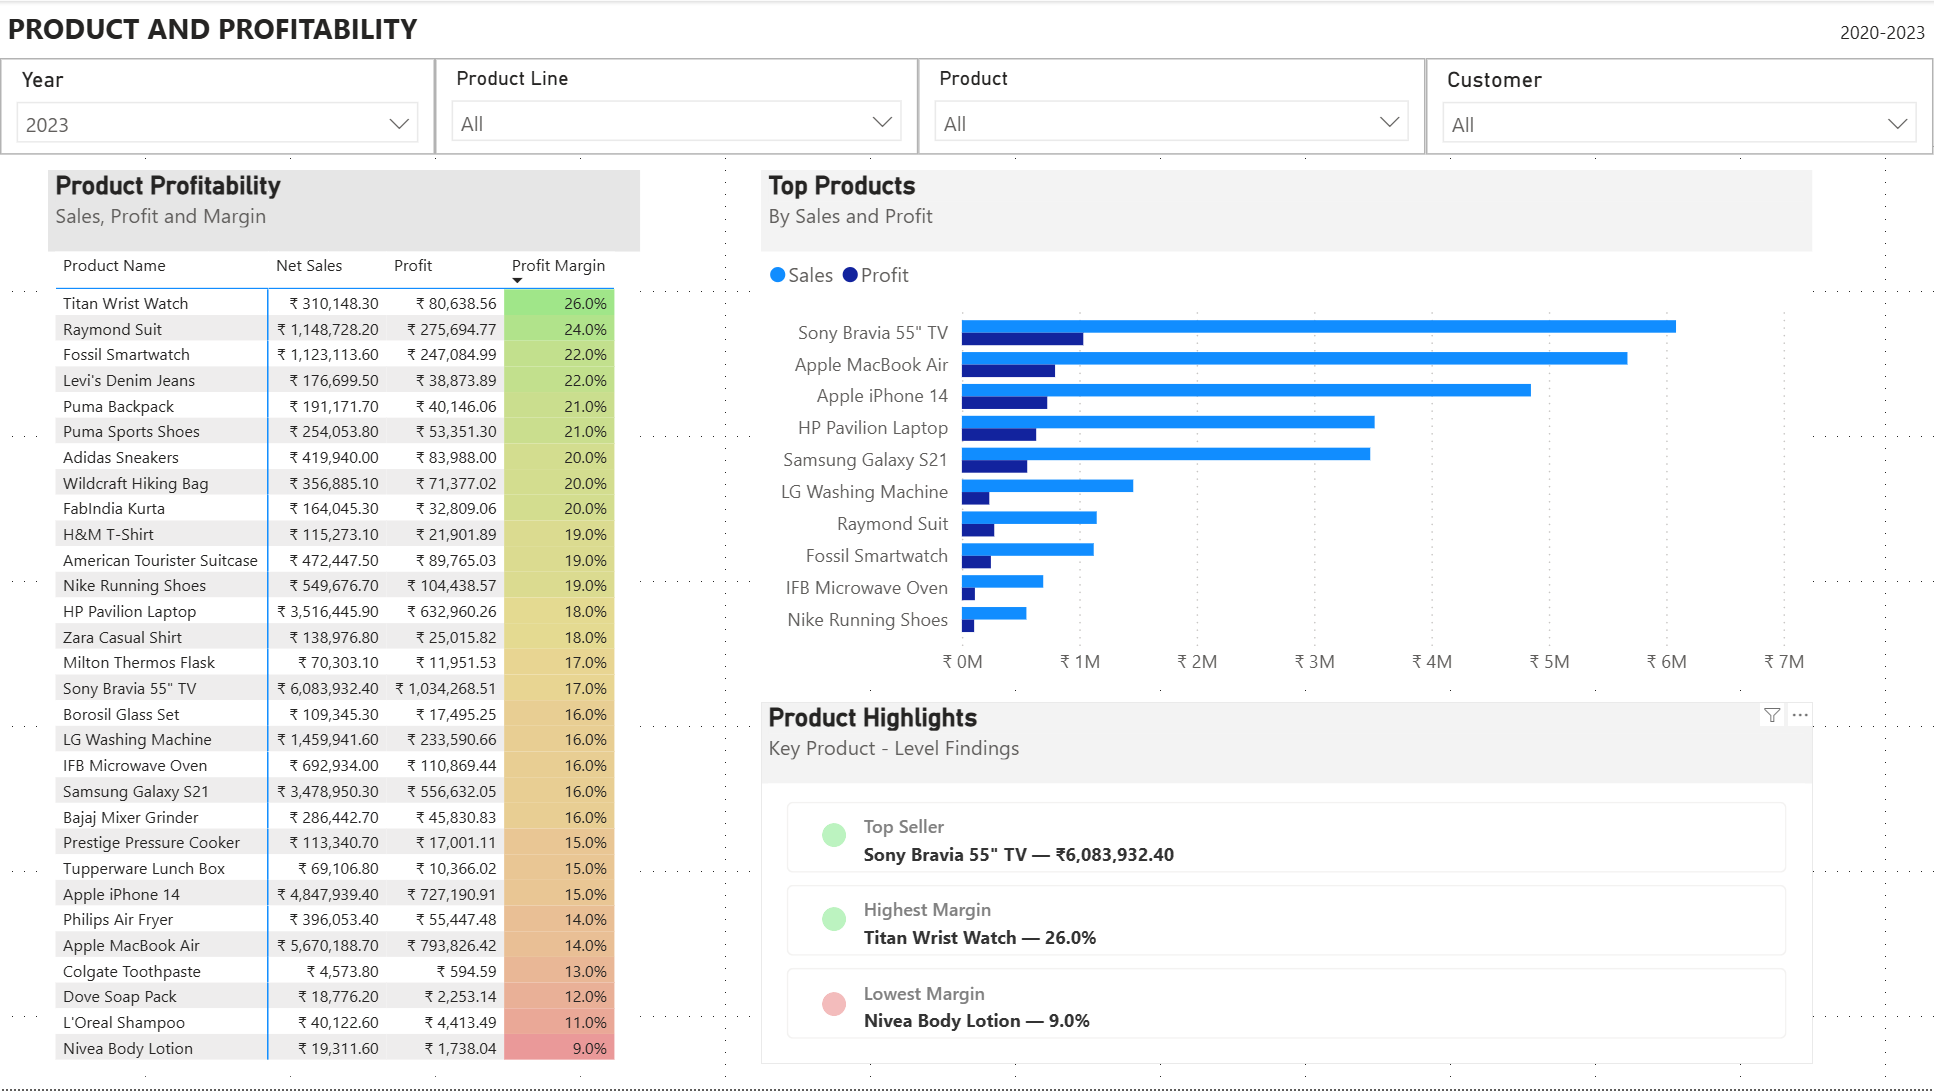

This screenshot's page, from the dashboard's own definition file:
{"tool":"powerbi","page":{"name":"Product and Profitability","canvas":[1280,720],"ordinal":1},"visuals":[{"type":"textbox","box":[0,0,1280,40],"z":0},{"type":"slicer","fields":{"Values":["Dim Date.Year"]},"box":[0,38,288,64],"z":1000},{"type":"slicer","fields":{"Values":["Dim Customers.Customer Name"]},"box":[944,38,336,64],"z":2000},{"type":"slicer","fields":{"Values":["Dim Product.Product Name"]},"box":[608,38,336,64],"z":3000},{"type":"slicer","fields":{"Values":["Dim Product.Product Line"]},"box":[288,38,320,64],"z":4000},{"type":"clusteredBarChart","title":"Top Products","fields":{"Category":["Dim Product.Product Name"],"Y":["Sum(Fact Table.Net Sales)","Sum(Fact Table.Profit)"]},"box":[504,112,696,344],"z":5000},{"type":"cardVisual","title":"Product Highlights","fields":{"Data":["Measures Table.Product Insights","Measures Table.Highest Margin","Measures Table.Lowest Margin"]},"box":[504,464,696,240],"z":6000},{"type":"pivotTable","title":"Product Profitability","fields":{"Rows":["Dim Product.Product Name"],"Values":["Sum(Fact Table.Net Sales)","Sum(Fact Table.Profit)","Measures Table.Profit Margin"]},"box":[32,112,392,600],"z":7000},{"type":"shape","box":[544,544,16,16],"z":8000},{"type":"shape","box":[544,600,16,16],"z":9000},{"type":"shape","box":[544,656,16,16],"z":10000}]}

Visuals, with their boxes in screenshot pixels (x1, y1, x2, y2), scaled from the page's 1280x720 canvas onto the 1934x1091 screenshot:
textbox: [left=0, top=0, right=1933, bottom=61]
slicer - Dim Date.Year: [left=0, top=58, right=435, bottom=155]
slicer - Dim Customers.Customer Name: [left=1426, top=58, right=1933, bottom=155]
slicer - Dim Product.Product Name: [left=919, top=58, right=1426, bottom=155]
slicer - Dim Product.Product Line: [left=435, top=58, right=919, bottom=155]
"Top Products" clusteredBarChart: [left=762, top=170, right=1813, bottom=691]
"Product Highlights" cardVisual: [left=762, top=703, right=1813, bottom=1067]
"Product Profitability" pivotTable: [left=48, top=170, right=641, bottom=1079]
shape: [left=822, top=824, right=846, bottom=849]
shape: [left=822, top=909, right=846, bottom=933]
shape: [left=822, top=994, right=846, bottom=1018]
